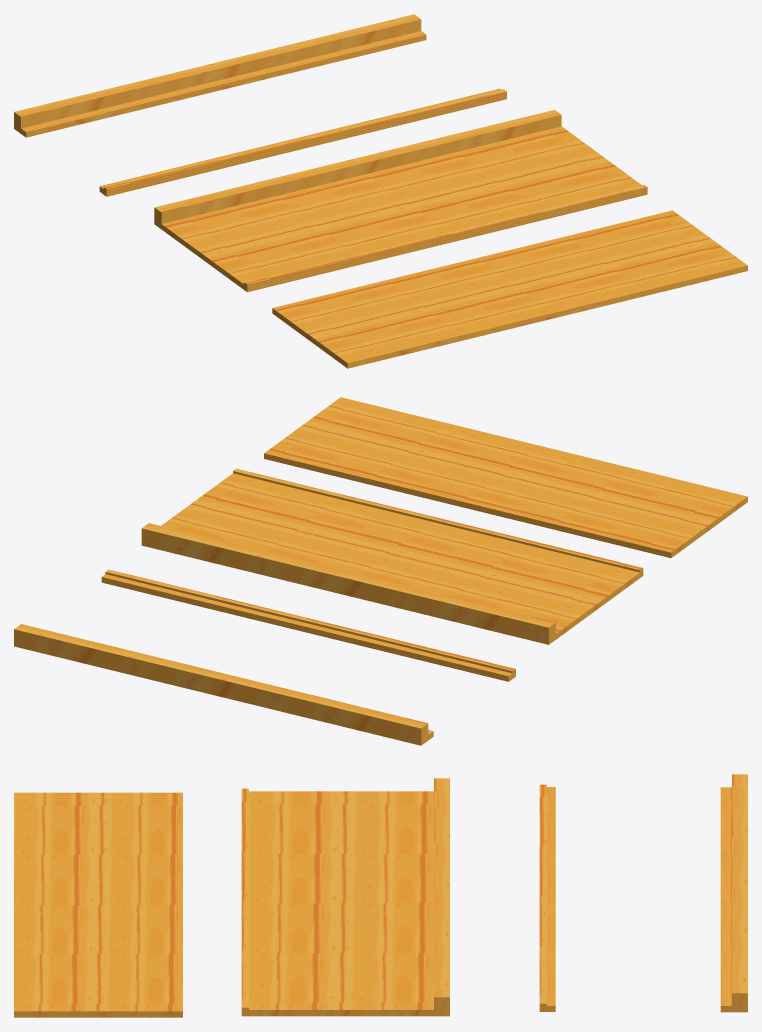
The model's file is tezgahparcalari.fbx.
3 views of the same model, one above another, from view 1: azimuth 30°, elevation 25°; view 2: azimuth 150°, elevation 25°; view 3: azimuth 270°, elevation 25° (orthographic). The views are drawn at different scales.
Parts seen in each view (by area): view 1: Cube.031, Cube.034, Cube.033, Cube.032; view 2: Cube.031, Cube.034, Cube.033, Cube.032; view 3: Cube.031, Cube.034, Cube.033, Cube.032.
Part boxes in pixels (left/top/right/bottom): Cube.031: left=154, top=110, right=647, bottom=292; Cube.034: left=272, top=210, right=747, bottom=368; Cube.033: left=14, top=14, right=426, bottom=137; Cube.032: left=99, top=88, right=506, bottom=196; Cube.031: left=141, top=468, right=643, bottom=644; Cube.034: left=264, top=397, right=747, bottom=557; Cube.033: left=14, top=624, right=433, bottom=745; Cube.032: left=101, top=569, right=515, bottom=681; Cube.031: left=241, top=778, right=449, bottom=1016; Cube.034: left=14, top=792, right=182, bottom=1017; Cube.033: left=720, top=774, right=747, bottom=1012; Cube.032: left=539, top=784, right=555, bottom=1011.
Size of the model in its own units: 1318 by 57.41 by 1833.
1 material, 1 textured.
